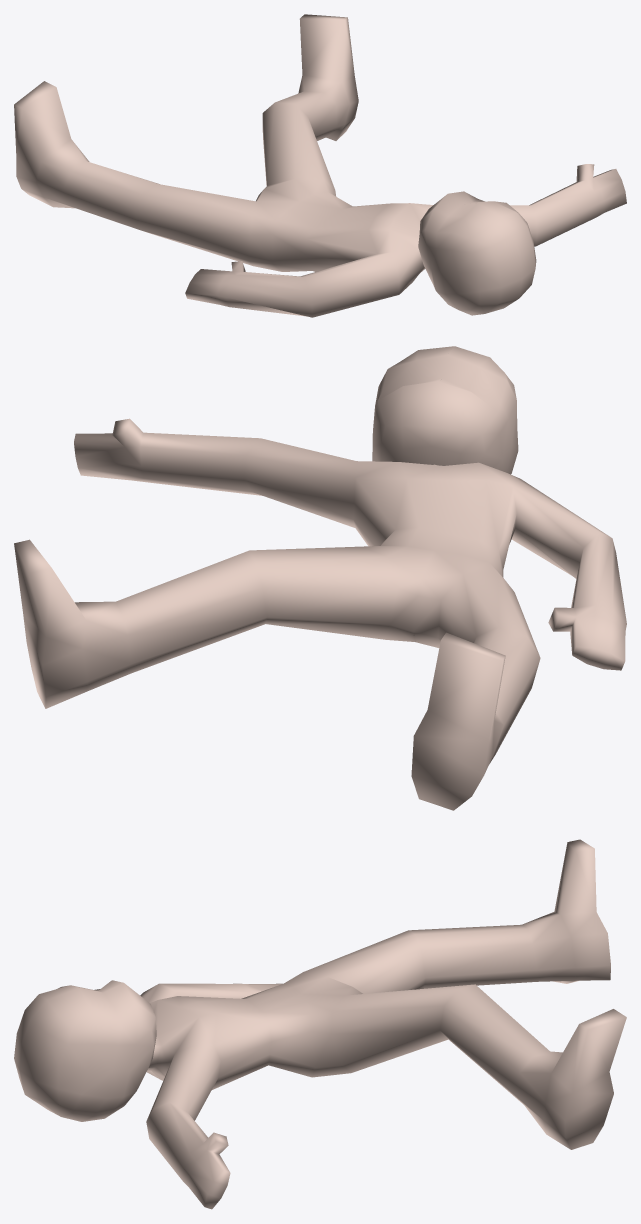
Rendered from people.obj.
3 renders of one model, top to bottom at view 1: azimuth 30°, elevation 25°; view 2: azimuth 150°, elevation 25°; view 3: azimuth 270°, elevation 25°, orthographic. The views are drawn at different scales.
Parts seen in each view (by area): view 1: body1; view 2: body1; view 3: body1.
Part boxes in pixels (<box>): body1: <box>14,14,626,317</box>; body1: <box>14,346,626,810</box>; body1: <box>14,839,626,1209</box>.
Bounding box in the file's own units: 1.6 × 0.4103 × 1.6.
